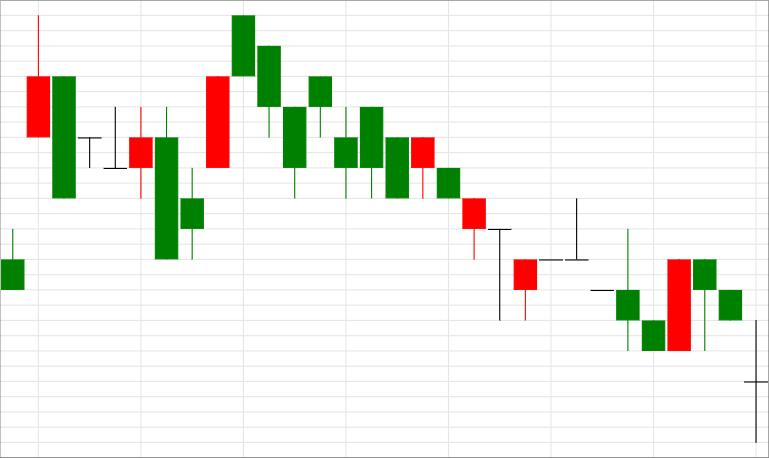bullish_engulfing_rise: (565, 198, 691, 351)
